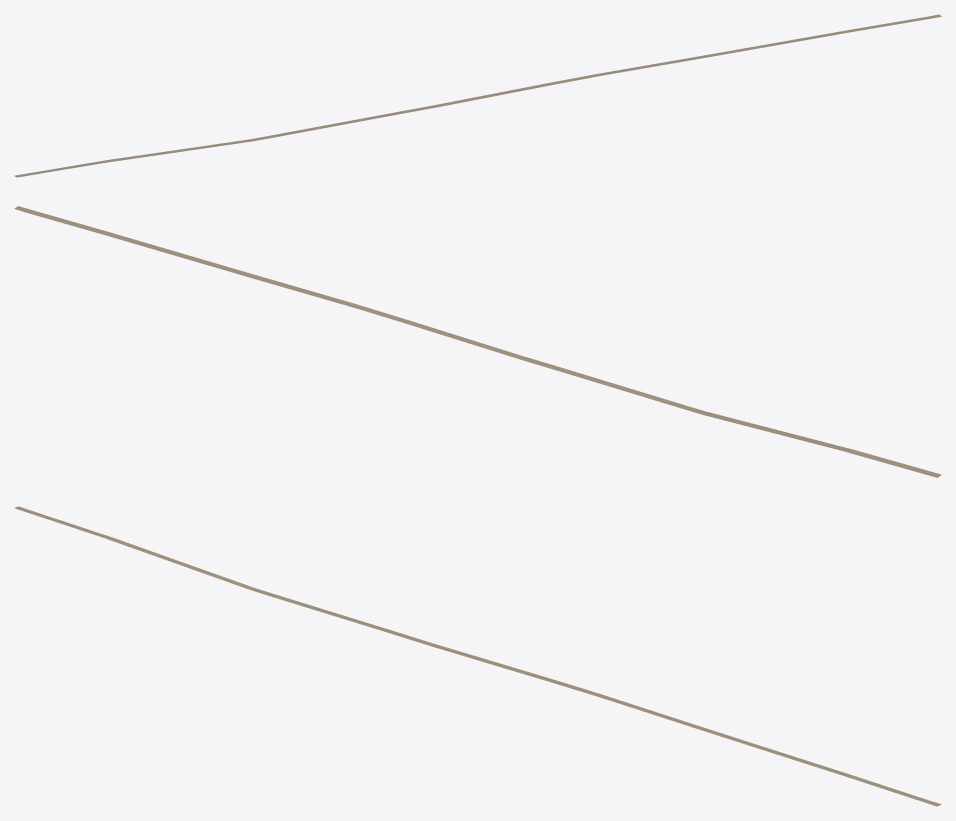
The model's file is farm_16_13_track.glb.
3 views of the same model, one above another, from view 1: azimuth 30°, elevation 25°; view 2: azimuth 150°, elevation 25°; view 3: azimuth 330°, elevation 25° (orthographic). The views are drawn at different scales.
Visible parts, largest first — view 1: geometry_0; view 2: geometry_0; view 3: geometry_0.
Boxes of the visible parts, x1,y1,x2,y2 form: geometry_0: (14,14,941,177); geometry_0: (14,206,941,477); geometry_0: (14,506,941,806).
Bounding box in the file's own units: 496 × 7.35 × 55.3.
